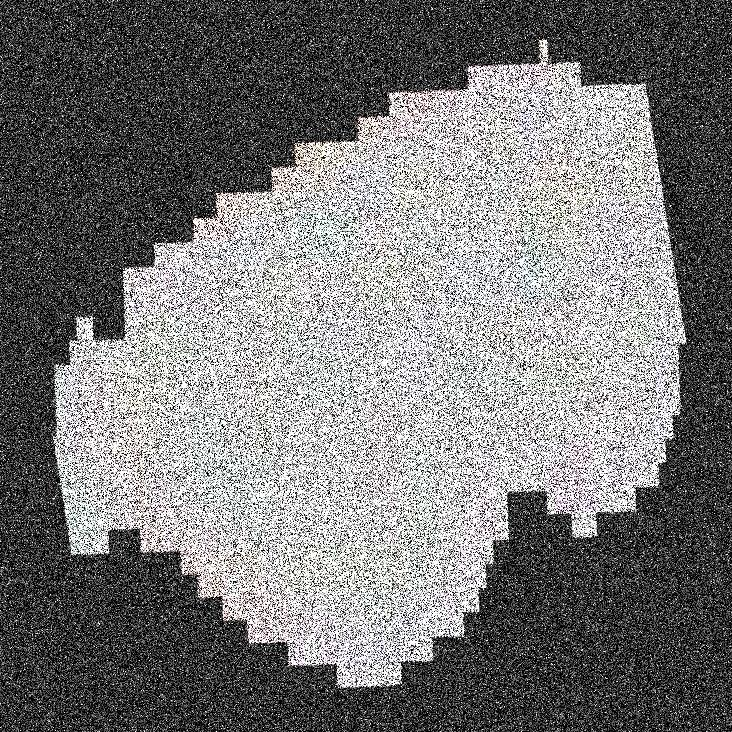Oculos: (200, 0, 731, 731)
